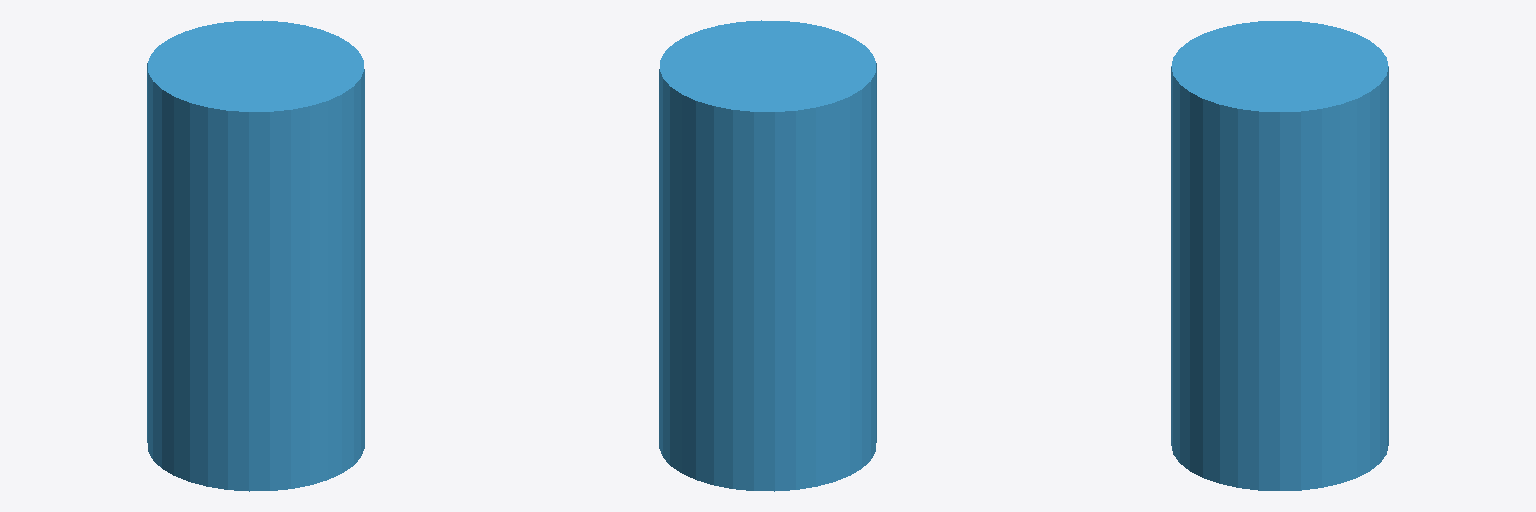
URDF robot description (soda_can):
<?xml version="1.0"?>
<robot name="soda_can" xmlns:xacro="http://ros.org/wiki/xacro">
  <link name="base_link">
  </link>
  <link name="can(14)">
    <visual>
      <origin xyz="0 0 0" rpy="0 0 0"/>
      <geometry>
        <cylinder radius="0.03175" length="0.1222"/>
      </geometry>
    </visual>
    <collision>
      <origin xyz="0 0 0" rpy="0 0 0"/>
      <geometry>
        <cylinder radius="0.03175" length="0.1222"/>
      </geometry>
    </collision>
  </link>
  <joint name="base_link_can(14)_joint" type="fixed">
    <parent link="base_link"/>
    <child link="can(14)"/>
    <origin xyz="0.0 0.0 0.0" rpy="0.0 0.0 0.0"/>
  </joint>
</robot>

--- Render facts (derived) ---
Views: 3 orthographic renders of the robot side by side, from view 1: azimuth 30°, elevation 25°; view 2: azimuth 150°, elevation 25°; view 3: azimuth 270°, elevation 25°.
Robot: soda_can — 2 links, 1 joints (1 fixed); root link base_link; default pose: all joints at 0.
Links seen in each view (by area): view 1: can(14); view 2: can(14); view 3: can(14).
Link boxes in pixels (<box>): can(14): <box>147,20,364,491</box>; can(14): <box>659,20,876,491</box>; can(14): <box>1171,21,1388,490</box>.
Size in the robot's own frame: 0.0635 by 0.0635 by 0.1222 metres.
Geometry: primitives only (box / cylinder / sphere), no mesh files.